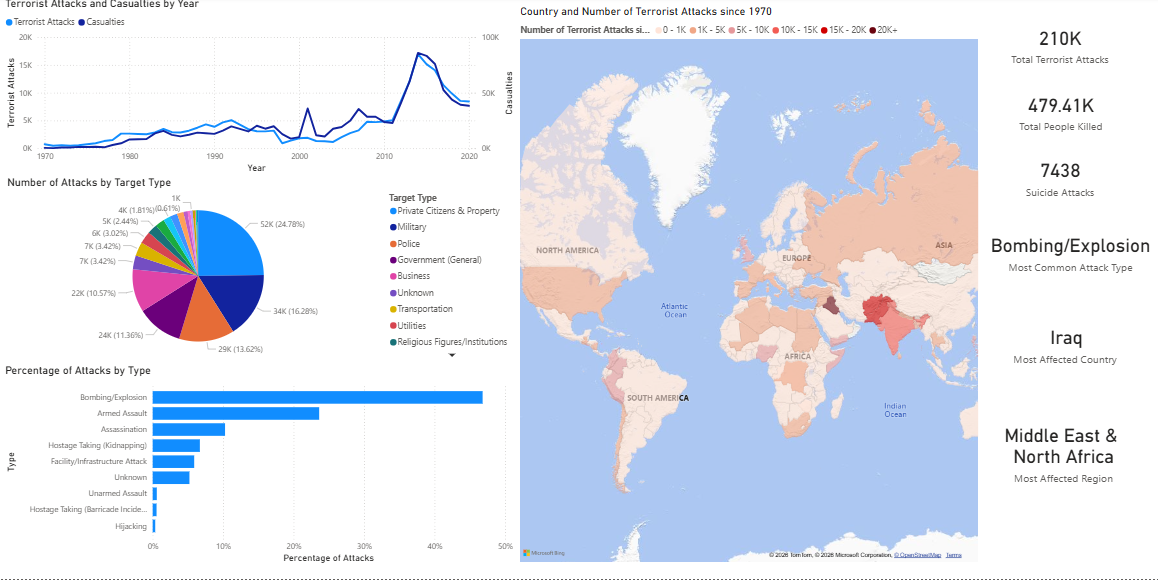

Layout of this report page (visuals, bound fields, positions):
{"tool":"powerbi","page":{"name":"Page 1","canvas":[1280,720],"ordinal":0},"visuals":[{"type":"lineChart","fields":{"Category":["terrorism_db attacks_by_year.year"],"Y":["Sum(terrorism_db attacks_by_year.total_attacks)"],"Y2":["Sum(terrorism_db attacks_by_year.total_casualties)"]},"box":[10.4,0,392.3,278.1],"z":0},{"type":"pieChart","fields":{"Category":["terrorism_db attacks_by_target.target_type"],"Y":["Sum(terrorism_db attacks_by_target.total_attacks)"]},"box":[11.5,278.1,391.2,278.1],"z":1000},{"type":"filledMap","fields":{"Category":["terrorism_db attacks_by_country.country"],"Series":["terrorism_db attacks_by_country.Attack Range"]},"box":[425,17.5,598.8,680],"z":1001},{"type":"clusteredBarChart","fields":{"Category":["terrorism_db attacks_by_type.attack_type"],"Y":["CountNonNull(terrorism_db attacks_by_type.total_attacks)"]},"box":[12,566,391,154],"z":1002},{"type":"card","fields":{"Values":["Sum(terrorism_db attacks.terrorist_attack)"]},"box":[1032.5,17.5,206.2,135],"z":1003},{"type":"card","fields":{"Values":["Sum(terrorism_db attacks.number_killed)"]},"box":[1025,122.5,222.5,110],"z":1004},{"type":"card","fields":{"Values":["Sum(terrorism_db attacks.suicide)"]},"box":[1032.5,221.2,206.2,93.8],"z":1005},{"type":"card","fields":{"Values":["terrorism_db attacks.Most Common Attack Type"]},"box":[1041.2,315,188.8,112.5],"z":1006},{"type":"card","fields":{"Values":["terrorism_db attacks.Most Affected Country Lable"]},"box":[1041.2,427.5,188.8,150],"z":1007},{"type":"card","fields":{"Values":["terrorism_db attacks.Most Affected Region Lable"]},"box":[1025,555,230,153.8],"z":1008}]}

Visuals, with their boxes on the page's 1280x720 design canvas (x1, y1, x2, y2). These are canvas units, not pixel positions in the 1158x580 screenshot, which may show the page scaled, cropped or inside an application window:
lineChart - terrorism_db attacks_by_year.year x Sum(terrorism_db attacks_by_year.total_attacks): detection(10, 0, 403, 278)
pieChart - terrorism_db attacks_by_target.target_type x Sum(terrorism_db attacks_by_target.total_attacks): detection(12, 278, 403, 556)
filledMap - terrorism_db attacks_by_country.country x terrorism_db attacks_by_country.Attack Range: detection(425, 18, 1024, 698)
clusteredBarChart - terrorism_db attacks_by_type.attack_type x CountNonNull(terrorism_db attacks_by_type.total_attacks): detection(12, 566, 403, 720)
card - Sum(terrorism_db attacks.terrorist_attack): detection(1032, 18, 1239, 152)
card - Sum(terrorism_db attacks.number_killed): detection(1025, 122, 1248, 232)
card - Sum(terrorism_db attacks.suicide): detection(1032, 221, 1239, 315)
card - terrorism_db attacks.Most Common Attack Type: detection(1041, 315, 1230, 428)
card - terrorism_db attacks.Most Affected Country Lable: detection(1041, 428, 1230, 578)
card - terrorism_db attacks.Most Affected Region Lable: detection(1025, 555, 1255, 709)
